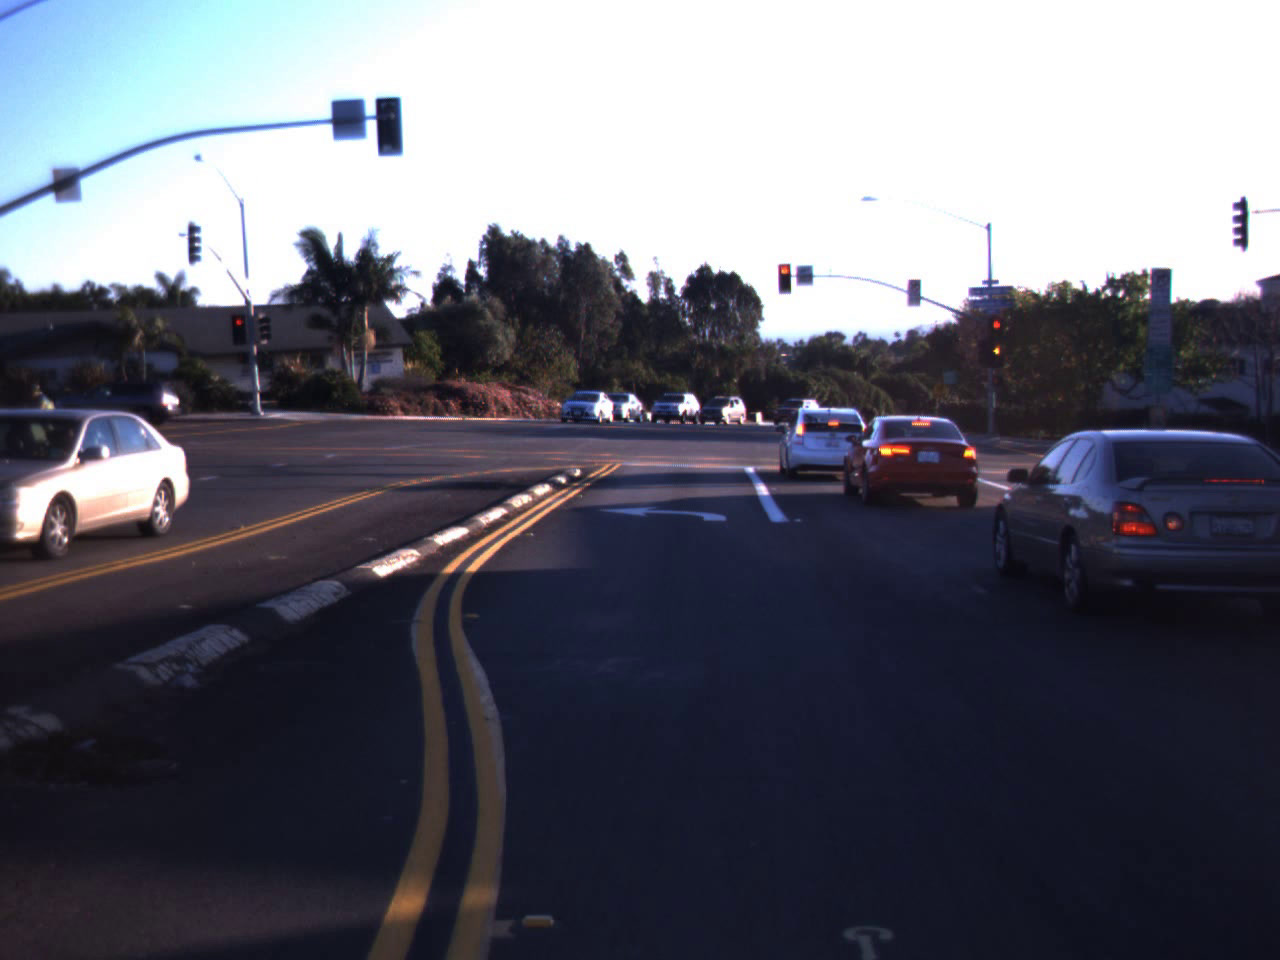stop: (773, 262, 797, 298), (988, 319, 1006, 346), (232, 318, 244, 336)
